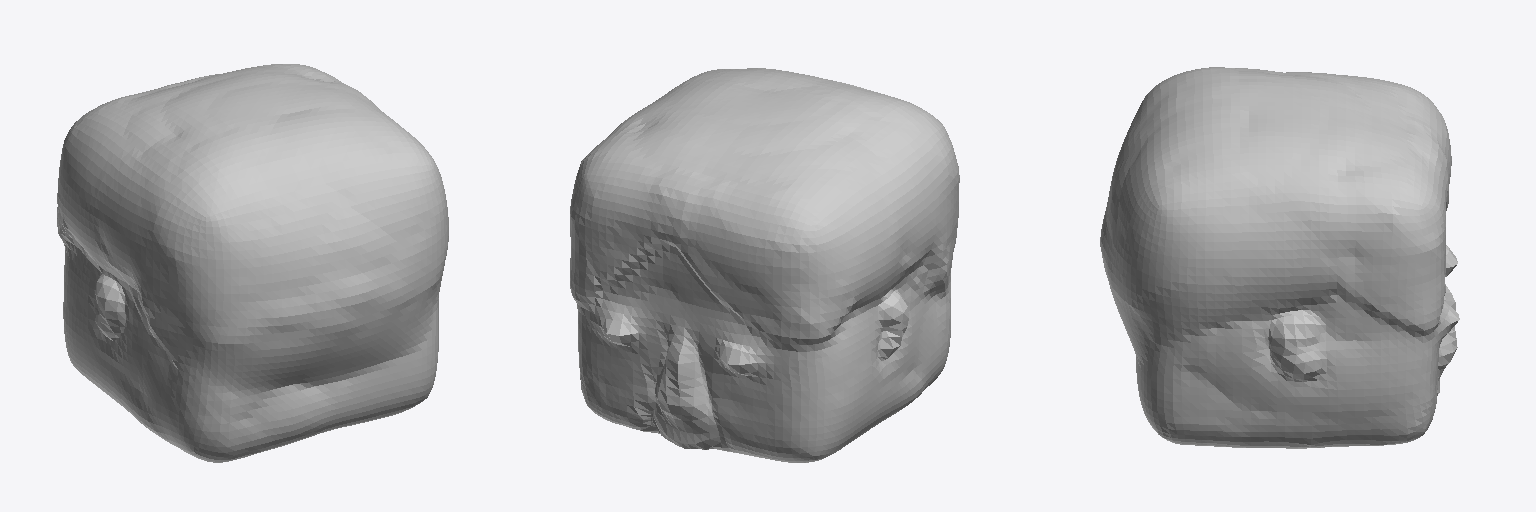
File: Sculpt.obj
3 views of the same model, side by side, from view 1: azimuth 30°, elevation 25°; view 2: azimuth 150°, elevation 25°; view 3: azimuth 270°, elevation 25° (orthographic).
Visible parts, largest first — view 1: Cube; view 2: Cube; view 3: Cube.
Boxes of the visible parts, box(x1,y1,x2,y2) form: Cube: box(57, 64, 448, 462); Cube: box(570, 68, 959, 462); Cube: box(1100, 67, 1459, 448).
Bounding box in the file's own units: 2.38 × 2.36 × 2.51.